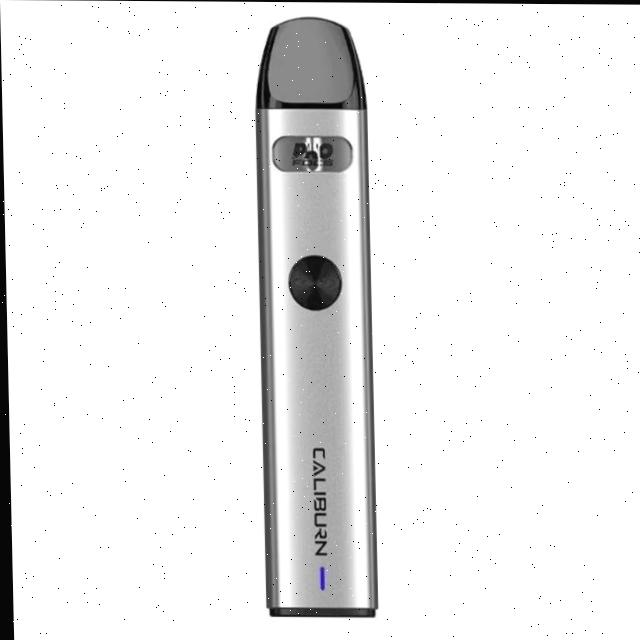vape: (254, 14, 377, 619)
